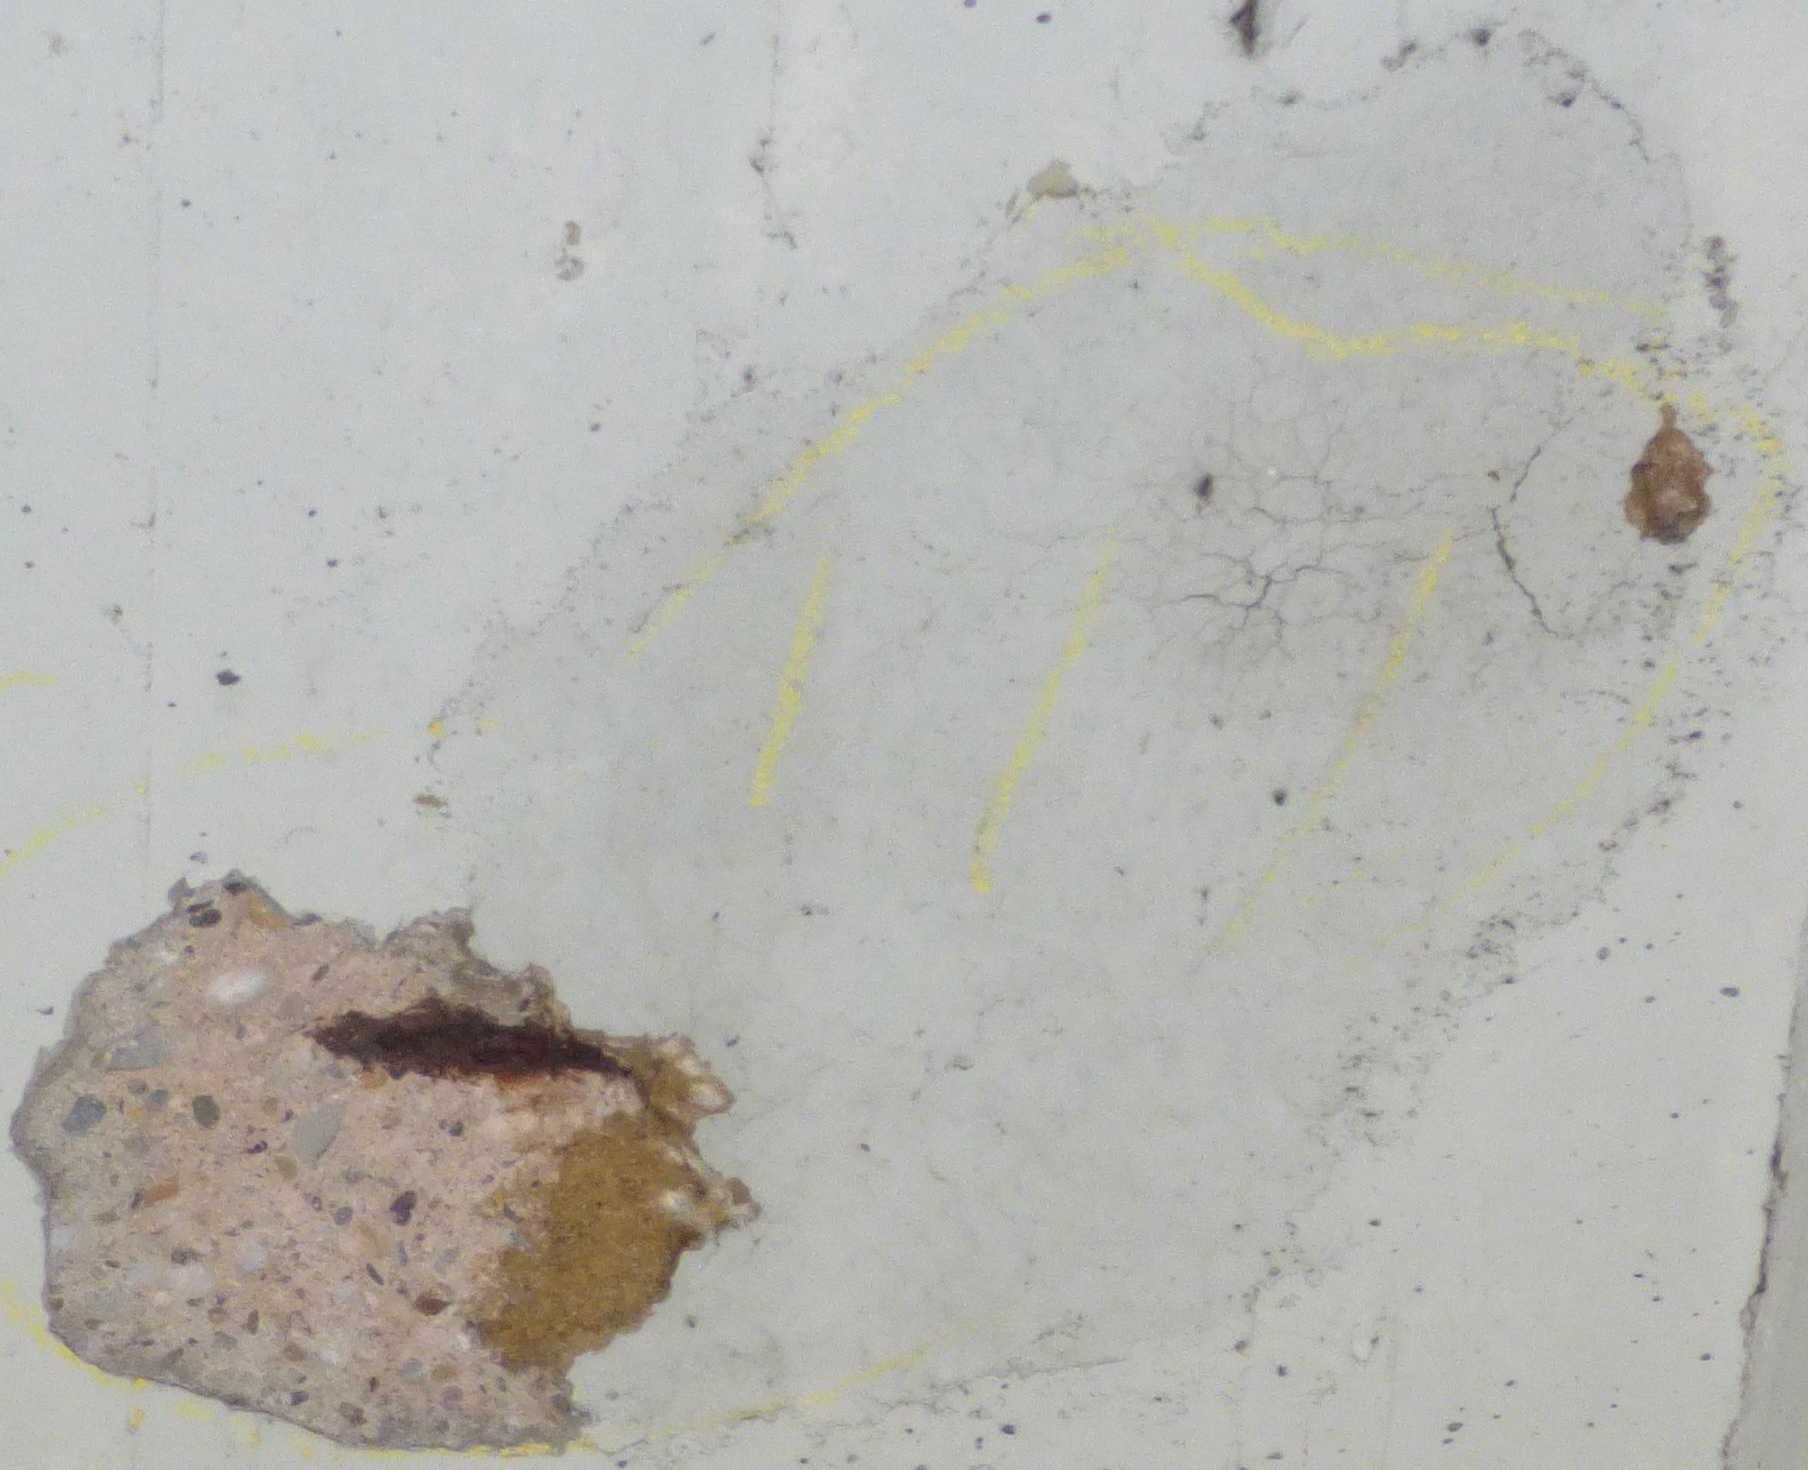Exposed reinforcement: (309, 997, 632, 1084)
Spalling: (8, 865, 762, 1458), (1622, 402, 1715, 546)
